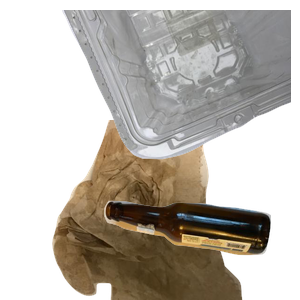glass: (101, 198, 300, 300)
metal: (68, 10, 265, 131)
plastic: (60, 10, 300, 162)
trash: (50, 120, 285, 300)
